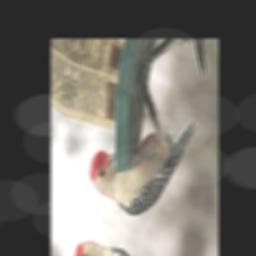Woodpecker: (85, 71, 202, 239)
